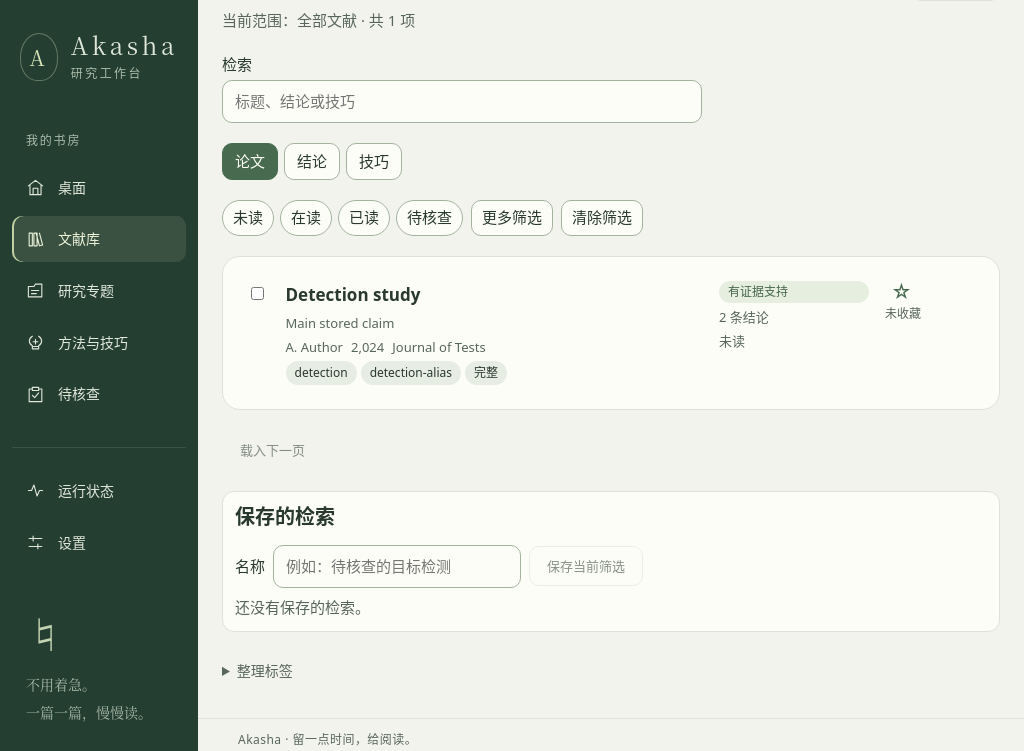
Test: UX-044 saved searches and tag actions recover from conflicts › previews a tag action with the affected count before changing anything
(page scrolled)
Expected: the link "Detection study" is shown, [286,282,420,306]
Click the heading "整理标签": (265, 671) [237,661,293,680]
(page scrolled)
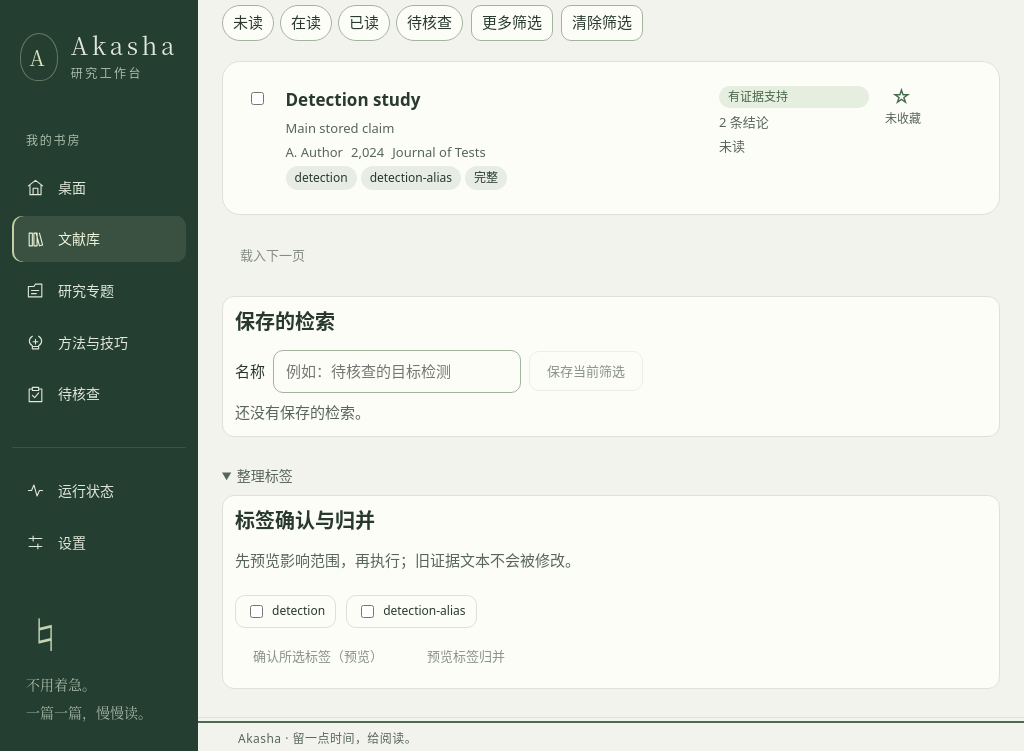
Click the checkbox labelled "detection": (256, 612) [250,605,263,618]
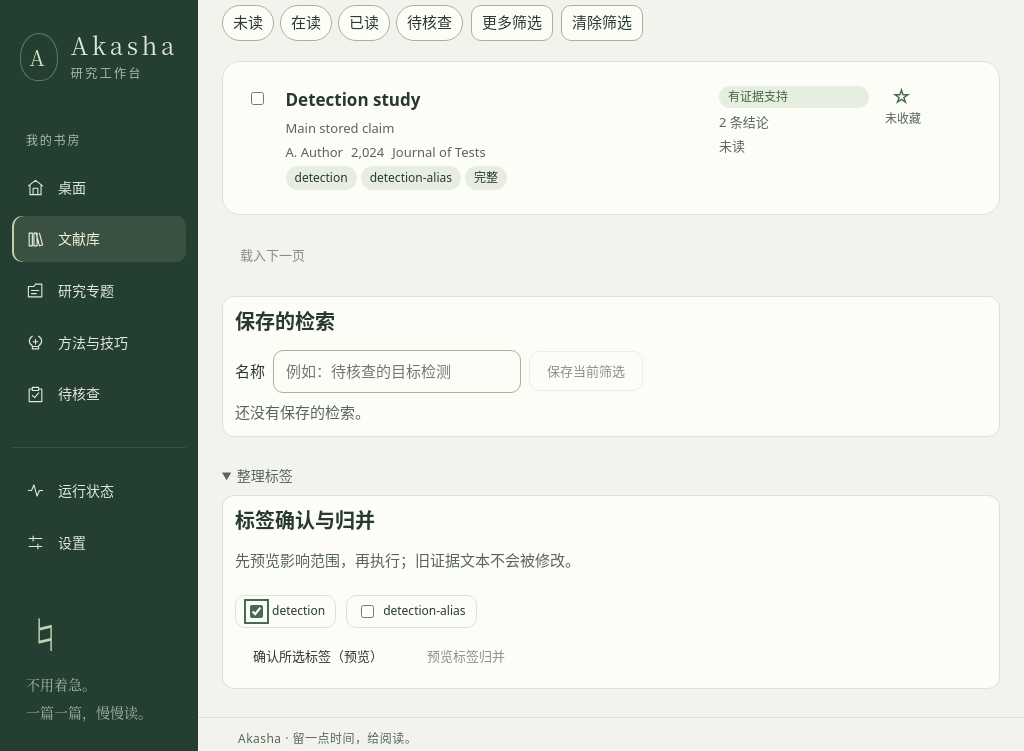
Click the checkbox labelled "detection-alias": (368, 612) [361,605,374,618]
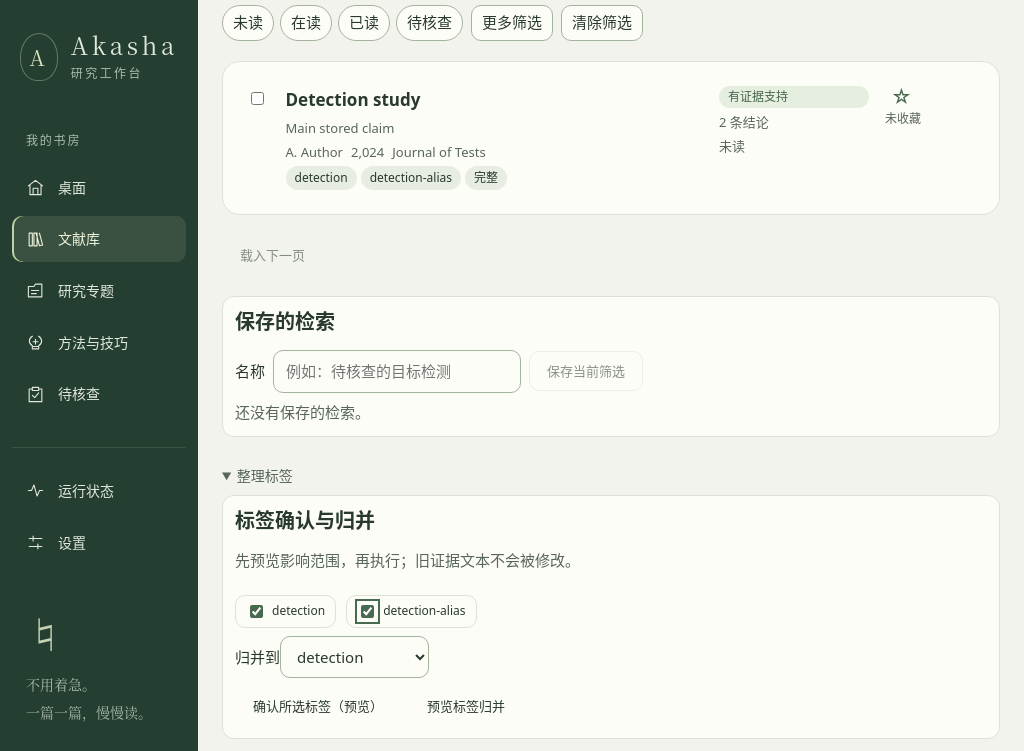
Click the button "确认所选标签（预览）": (318, 706) [235,686,401,726]
(page scrolled)
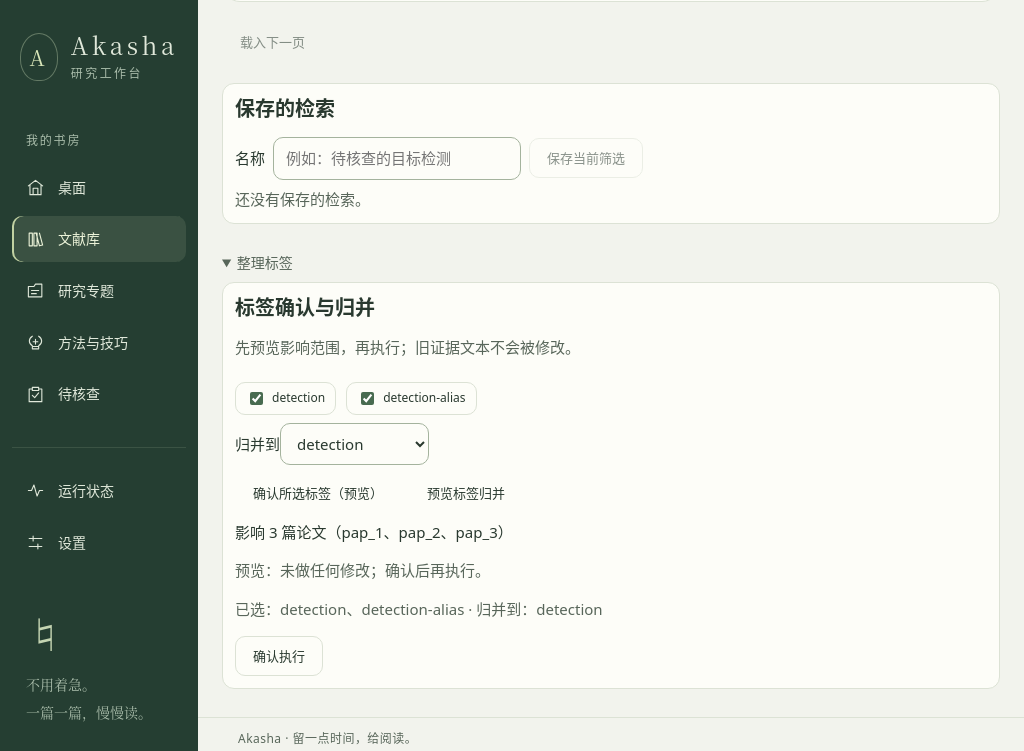
Result: the element with test id "tag-preview" shows "影响 3 篇论文" at [235,522,603,676]
Result: the element with test id "tag-preview" shows "预览：未做任何修改" at [235,560,490,580]
